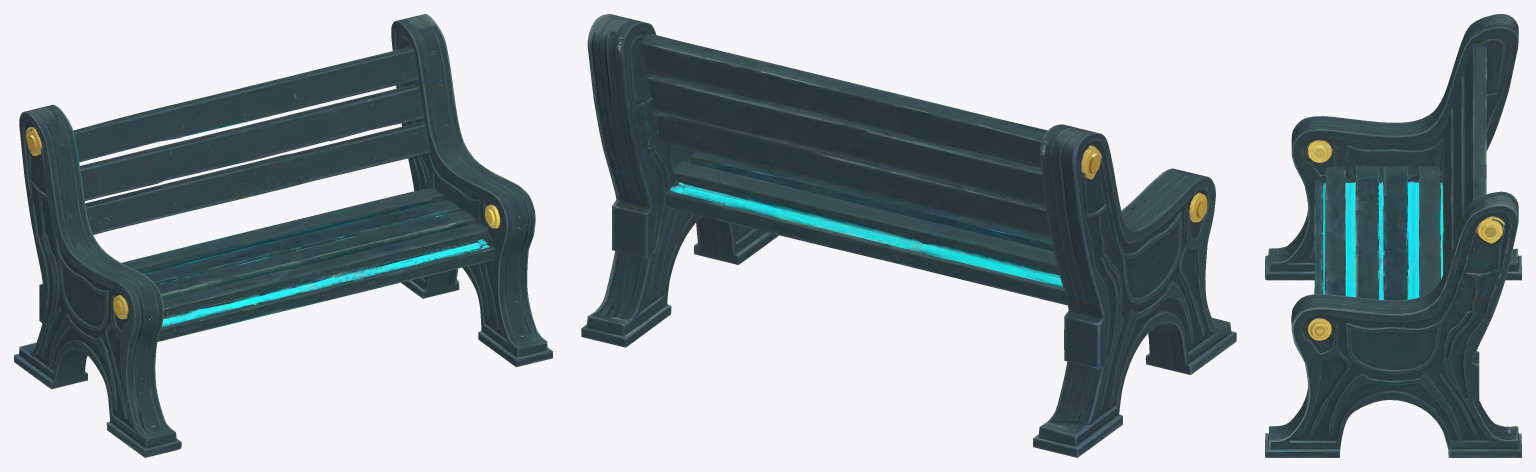
Rendered from prop-bench.glb.
3 renders of one model, left to right at view 1: azimuth 30°, elevation 25°; view 2: azimuth 150°, elevation 25°; view 3: azimuth 270°, elevation 25°, orthographic. The views are drawn at different scales.
Visible parts, largest first — view 1: Mesh_0; view 2: Mesh_0; view 3: Mesh_0.
Part boxes in pixels (x1=…): Mesh_0: x1=14, y1=14, x2=552, y2=457; Mesh_0: x1=581, y1=14, x2=1236, y2=457; Mesh_0: x1=1265, y1=14, x2=1521, y2=457.
Bounding box in the file's own units: 1.9 × 1.14 × 1.06.
1 material, 1 textured.
